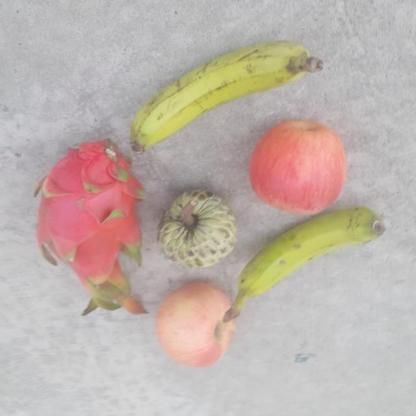annona: (155, 186, 240, 269)
apple: (249, 118, 348, 216), (154, 280, 239, 368)
banana: (127, 41, 324, 154), (223, 208, 386, 322)
pitaya: (32, 137, 148, 316)
